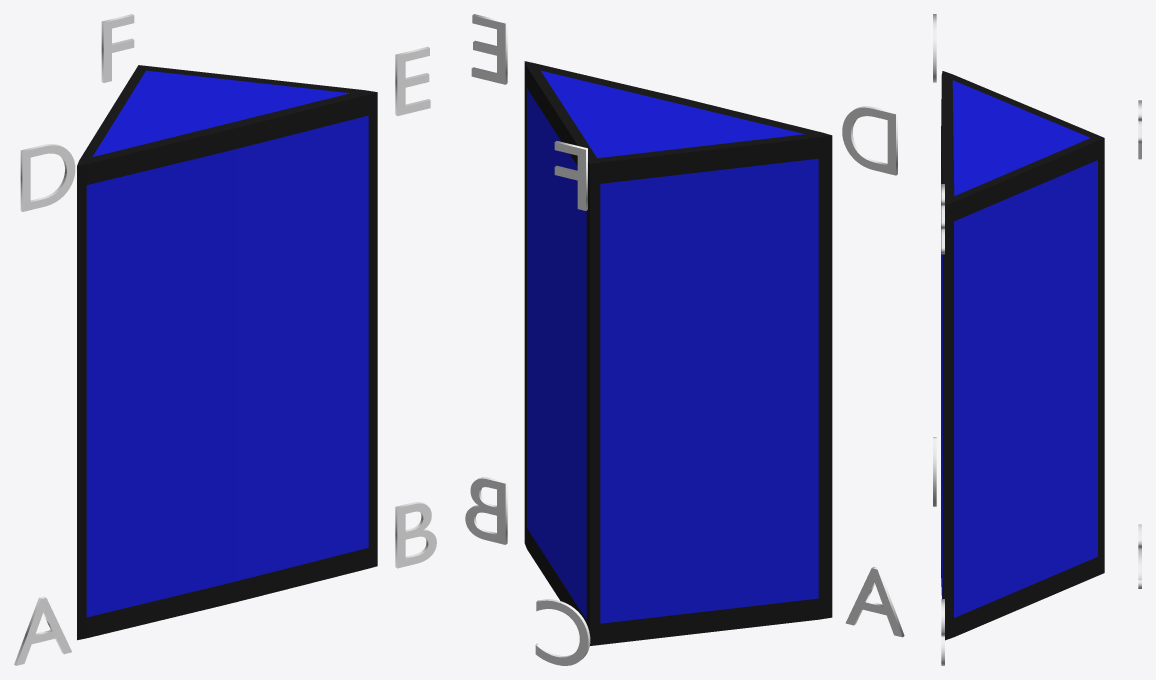
The model's file is Prisma 1.fbx.
The picture shows the model from 3 angles, left to right: view 1: azimuth 30°, elevation 25°; view 2: azimuth 150°, elevation 25°; view 3: azimuth 270°, elevation 25°; orthographic projection. The views are drawn at different scales.
Visible parts, largest first — view 1: Cube, Text.051, Text.053, Text.054, Text.050, Text.049; view 2: Cube, Text.051, Text.053, Text.054, Text.050, Text.052, Text.049; view 3: Cube.
Boxes of the visible parts, x1=… form: Cube: x1=77, y1=65, x2=377, y2=640; Text.051: x1=20, y1=144, x2=75, y2=211; Text.053: x1=395, y1=502, x2=436, y2=568; Text.054: x1=14, y1=596, x2=71, y2=665; Text.050: x1=395, y1=46, x2=430, y2=116; Text.049: x1=101, y1=14, x2=134, y2=82; Cube: x1=524, y1=61, x2=832, y2=645; Text.051: x1=842, y1=106, x2=897, y2=175; Text.053: x1=465, y1=477, x2=507, y2=544; Text.054: x1=845, y1=566, x2=904, y2=637; Text.050: x1=471, y1=14, x2=507, y2=84; Text.052: x1=535, y1=599, x2=590, y2=665; Text.049: x1=554, y1=141, x2=587, y2=210; Cube: x1=941, y1=71, x2=1104, y2=640.
Bounding box in the file's own units: 403 × 464 × 187.
